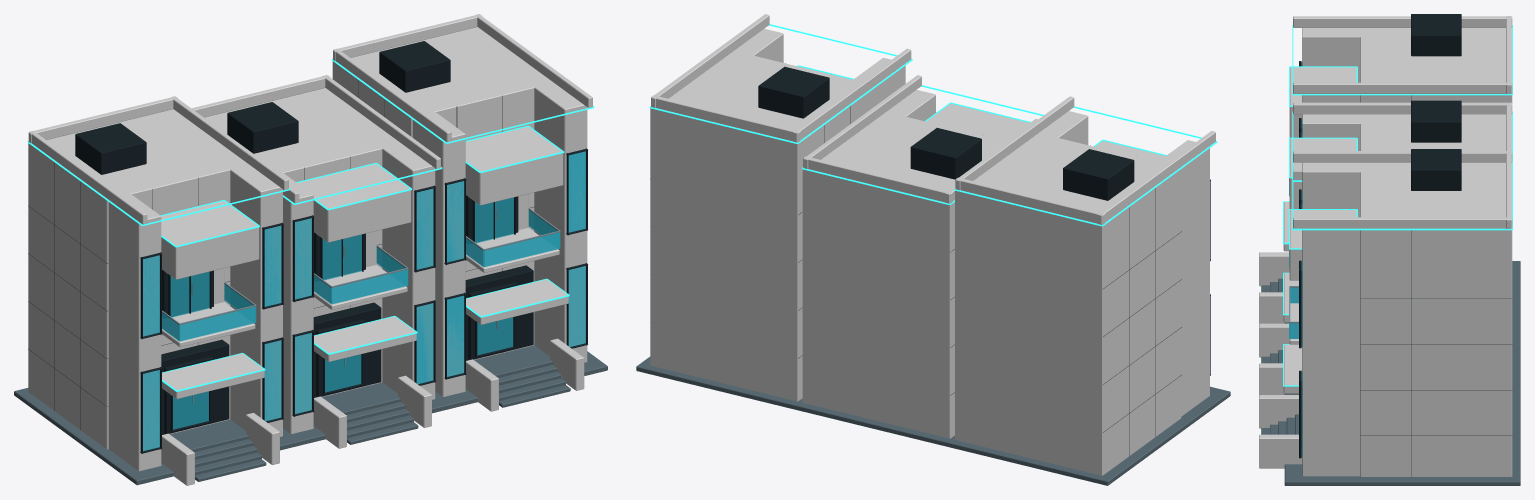
The model's file is building_05.glb.
3 views of the same model, side by side, from view 1: azimuth 30°, elevation 25°; view 2: azimuth 150°, elevation 25°; view 3: azimuth 270°, elevation 25° (orthographic). The views are drawn at different scales.
Visible parts, largest first — view 1: Window piers, Townhouse rear, Window glazing.004, Projecting balcony lintel, Parapets.004, Entrance recess.004, Roof utility cap, Entry canopy, Window mullions.004, Entrance stair treads, Stair side rails, Low terrace foundation (+8 smaller); view 2: Townhouse rear, Parapets.004, Window piers, Roof utility cap, Low terrace foundation, Cyan roof edges.004, Projecting balcony lintel, Facade panel seams.004; view 3: Townhouse rear, Window piers, Parapets.004, Roof utility cap, Stair side rails, Low terrace foundation, Projecting balcony lintel, Cyan roof edges.004, Entry canopy, Entrance stair treads, Facade panel seams.004, Window mullions.004 (+2 smaller).
Part boxes in pixels (x1,y1,x2,y2): Window piers: [108, 79, 587, 471]; Townhouse rear: [28, 27, 553, 449]; Window glazing.004: [143, 151, 585, 451]; Projecting balcony lintel: [161, 127, 563, 279]; Parapets.004: [28, 14, 592, 224]; Entrance recess.004: [162, 195, 518, 433]; Roof utility cap: [75, 41, 450, 174]; Entry canopy: [162, 279, 568, 398]; Window mullions.004: [140, 148, 587, 453]; Entrance stair treads: [186, 358, 570, 481]; Stair side rails: [161, 338, 584, 485]; Low terrace foundation: [14, 345, 607, 485]; Townhouse rear: [650, 51, 1181, 475]; Parapets.004: [651, 14, 1215, 224]; Window piers: [727, 28, 1209, 416]; Roof utility cap: [758, 66, 1134, 200]; Low terrace foundation: [636, 356, 1230, 485]; Cyan roof edges.004: [649, 24, 1217, 226]; Projecting balcony lintel: [799, 66, 1165, 161]; Facade panel seams.004: [785, 63, 1181, 456]; Townhouse rear: [1360, 28, 1512, 476]; Window piers: [1302, 28, 1377, 476]; Parapets.004: [1293, 16, 1512, 228]; Roof utility cap: [1411, 14, 1461, 190]; Stair side rails: [1259, 252, 1302, 468]; Low terrace foundation: [1284, 261, 1520, 485]; Projecting balcony lintel: [1289, 67, 1356, 280]; Cyan roof edges.004: [1283, 25, 1512, 386]; Entry canopy: [1283, 202, 1302, 393]; Entrance stair treads: [1261, 278, 1298, 434]; Facade panel seams.004: [1360, 95, 1511, 476]; Window mullions.004: [1299, 61, 1301, 458].
Bounding box in the file's own units: 31 × 17.9 × 15.5.
